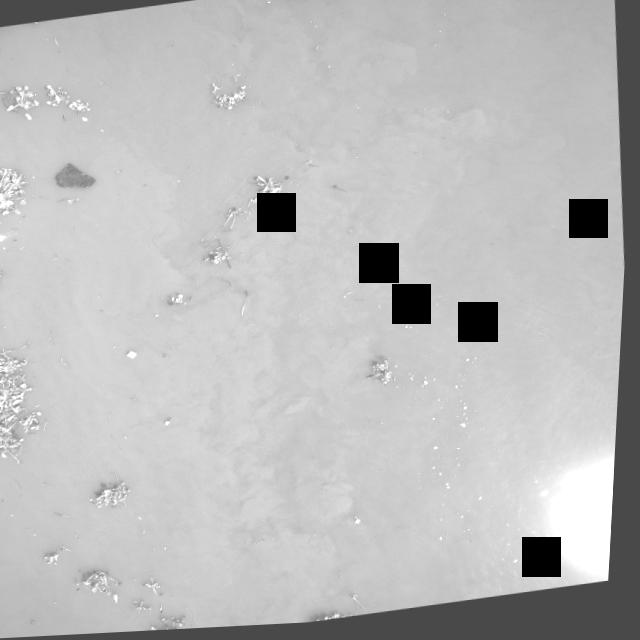plastic: (44, 158, 102, 195), (111, 593, 129, 609), (126, 349, 145, 362), (6, 411, 24, 423), (21, 109, 35, 124), (164, 417, 180, 430), (0, 227, 11, 244), (4, 102, 17, 114), (36, 408, 47, 418), (23, 381, 30, 391), (79, 118, 90, 124), (0, 220, 5, 225)
